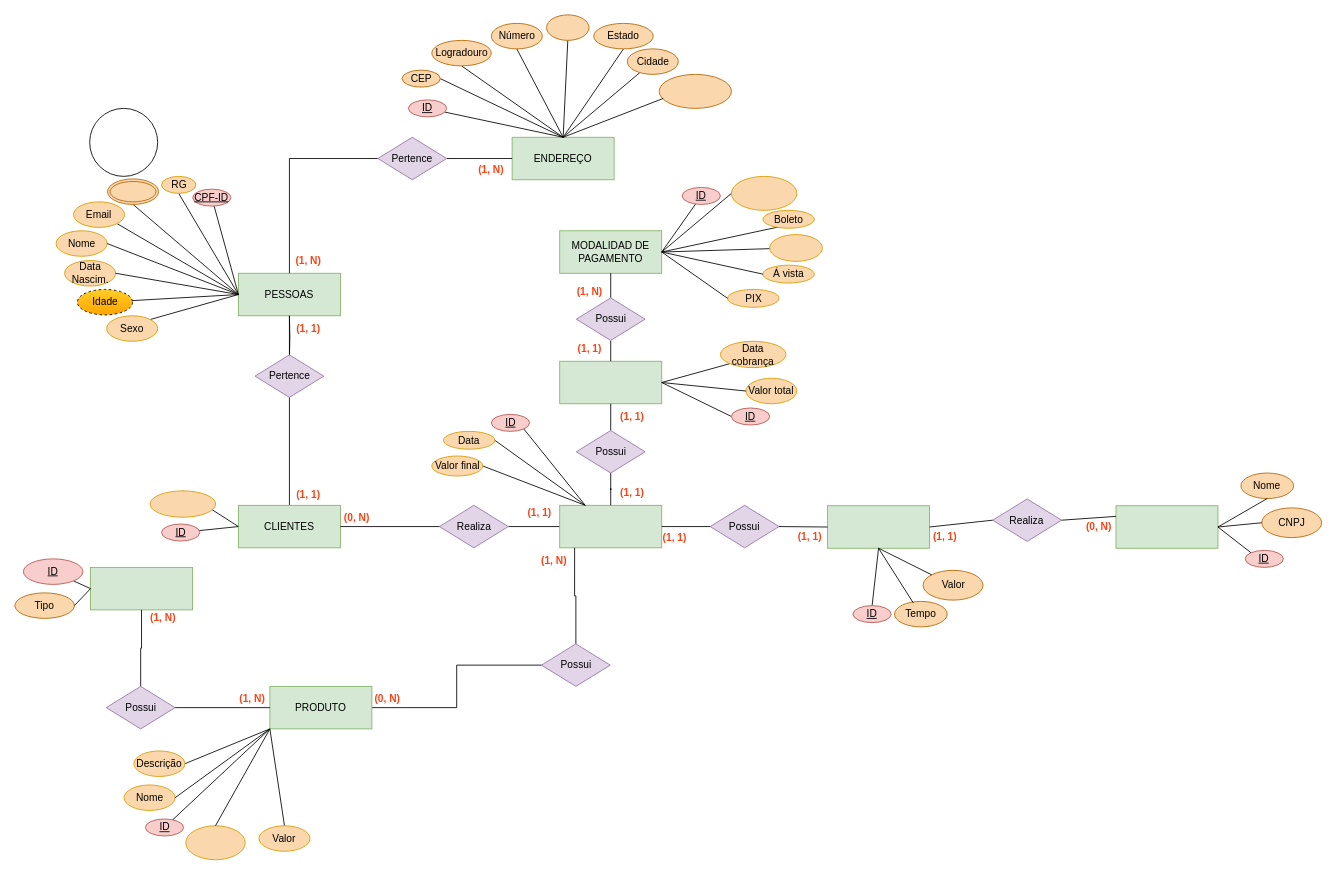
This 1337x875 diagram has some shape labels left out. Here are the shapes that lost their labels. From the top down, the centre of each, then its label:
At (567,27): "Bairro".
At (694,91): "Complemento".
At (133,191): "Contato".
At (764,193): "Cartão de crédito".
At (795,247): "Parcelado".
At (610,382): "COBRANÇA".
At (182,503): "Data criação".
At (610,526): "CART/COMPRA".
At (878,526): "FRETE".
At (1166,526): "TRANSPORTADORA".
At (141,588): "CATEGORIA".
At (215,842): "Estoque".
